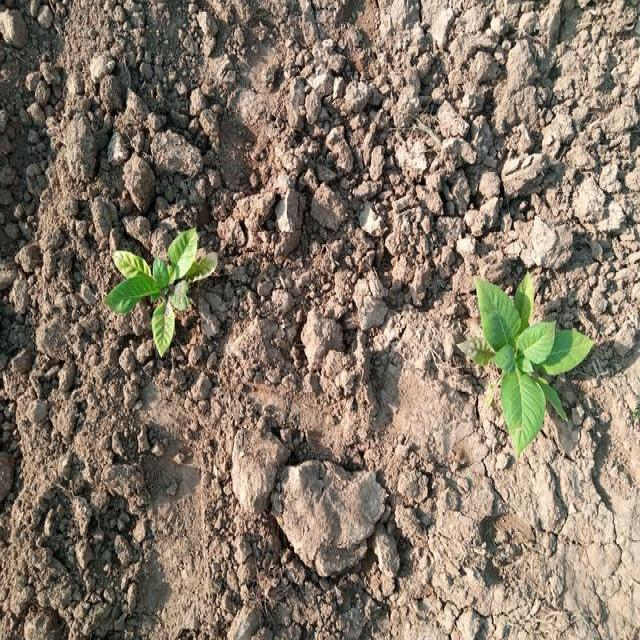crop: (461, 276, 588, 427), (110, 243, 218, 362)
